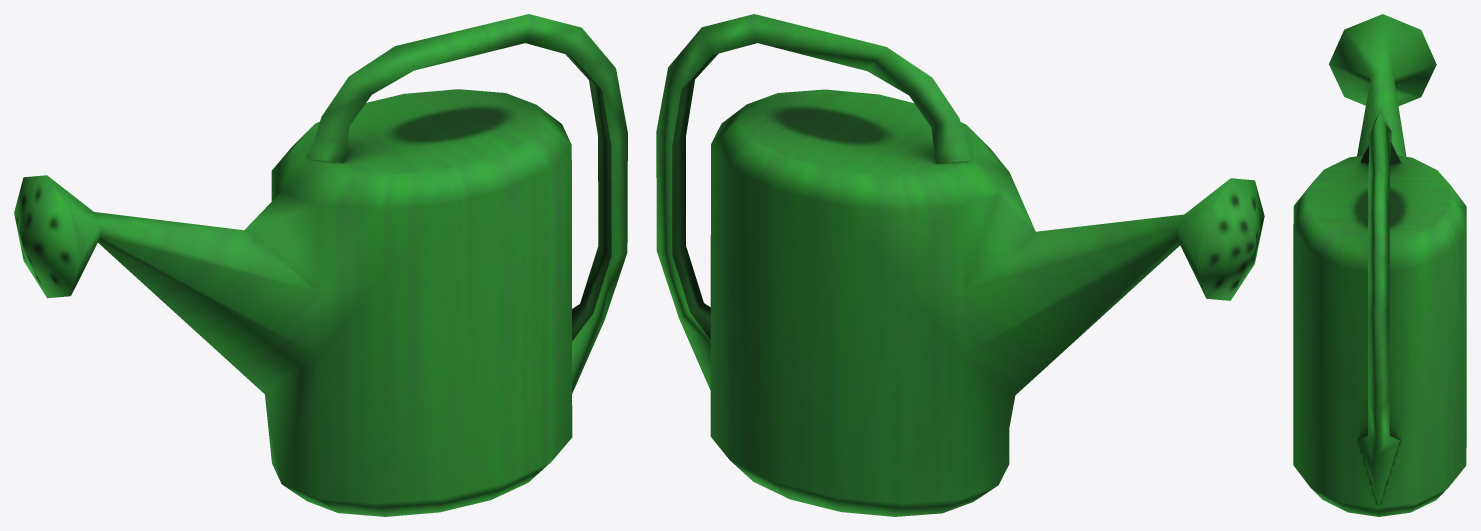
Rendered from giesskanne_01.fbx.
3 renders of one model, left to right at view 1: azimuth 30°, elevation 25°; view 2: azimuth 150°, elevation 25°; view 3: azimuth 270°, elevation 25°, orthographic. The views are drawn at different scales.
Visible parts, largest first — view 1: Mesh; view 2: Mesh; view 3: Mesh.
Boxes of the visible parts, left/top/right/bottom form: Mesh: left=14, top=14, right=627, bottom=516; Mesh: left=656, top=14, right=1264, bottom=516; Mesh: left=1293, top=14, right=1466, bottom=516.
Bounding box in the file's own units: 58.75 × 40.49 × 18.24.
